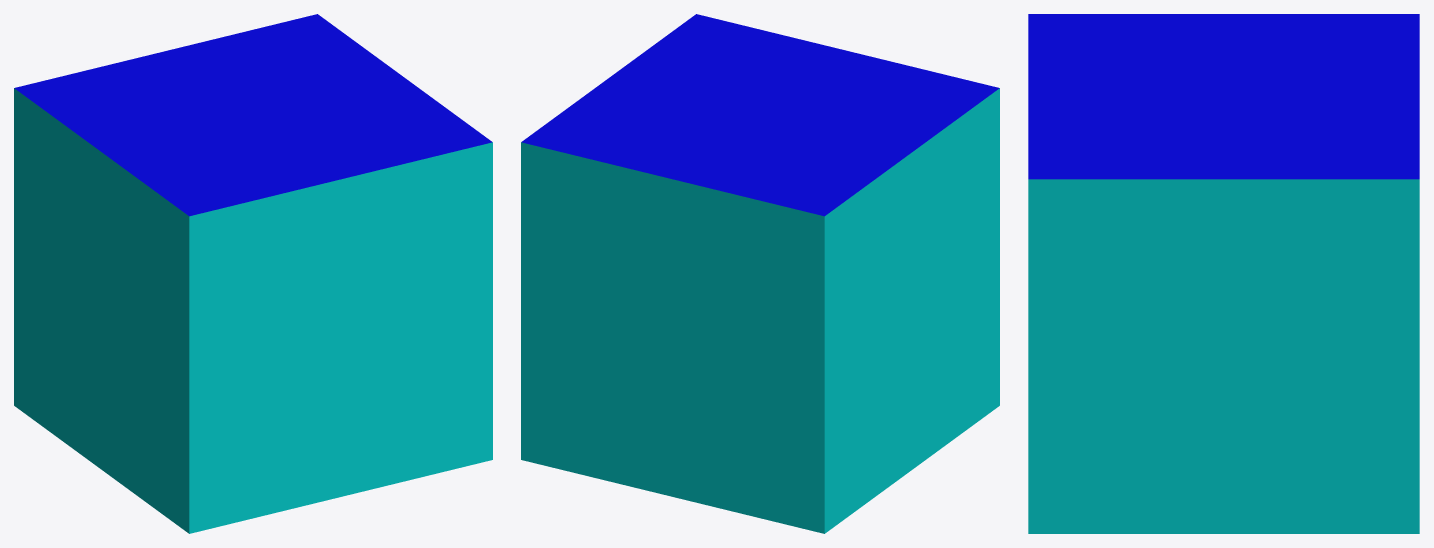
File: WaterVolume_LowTess.fbx
3 views of the same model, side by side, from view 1: azimuth 30°, elevation 25°; view 2: azimuth 150°, elevation 25°; view 3: azimuth 270°, elevation 25° (orthographic). The views are drawn at different scales.
Parts seen in each view (by area): view 1: pCube1; view 2: pCube1; view 3: pCube1.
Part boxes in pixels (<box>): pCube1: <box>14,14,492,533</box>; pCube1: <box>521,14,999,533</box>; pCube1: <box>1028,14,1419,533</box>.
Size of the model in its own units: 10 by 10 by 10.
